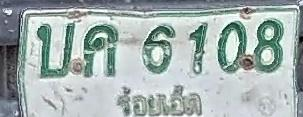0: (217, 21, 251, 73)
1: (188, 22, 208, 75)
6: (143, 24, 175, 74)
8: (250, 18, 284, 72)
A04: (82, 23, 118, 77)
A26: (36, 22, 76, 78)
RET: (111, 84, 205, 117)
